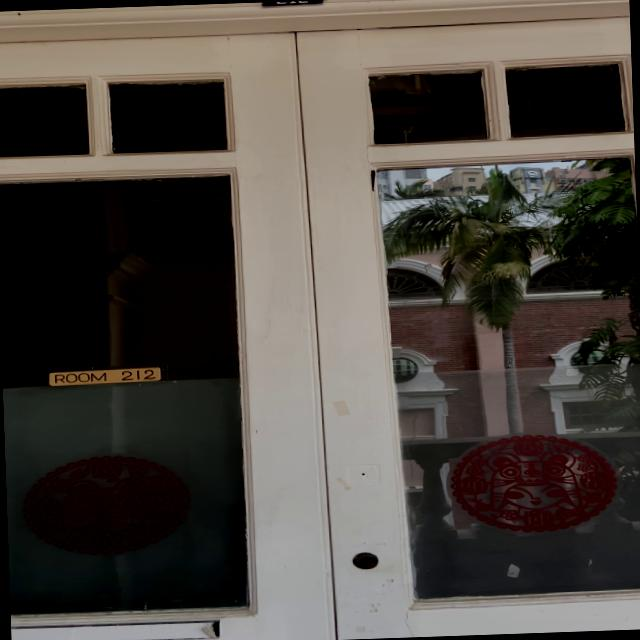room212Window: (45, 362, 166, 388)
